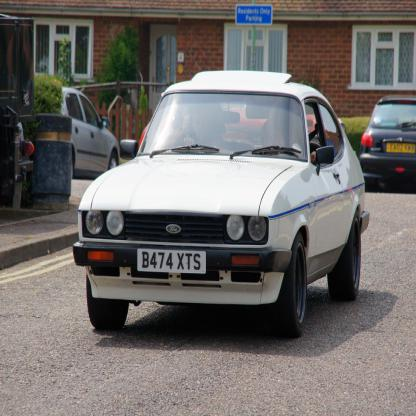Car: (72, 70, 370, 339), (359, 93, 415, 195), (60, 86, 118, 181)
